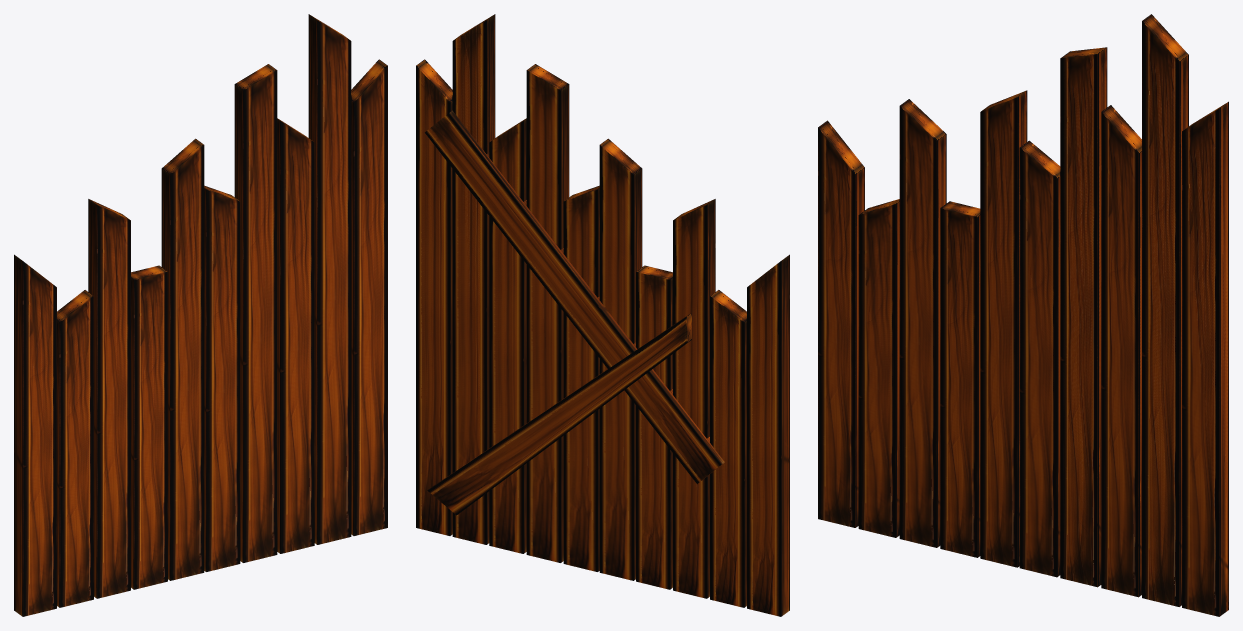
Rendered from broken wall.fbx.
3 renders of one model, left to right at view 1: azimuth 30°, elevation 25°; view 2: azimuth 150°, elevation 25°; view 3: azimuth 330°, elevation 25°, orthographic. The views are drawn at different scales.
Parts seen in each view (by area): view 1: wall1; view 2: wall1; view 3: wall1.
Part boxes in pixels (bbox=[...]): wall1: bbox=[14, 14, 387, 616]; wall1: bbox=[416, 14, 789, 616]; wall1: bbox=[818, 14, 1228, 616].
Size of the model in its own units: 410 by 563 by 27.17.
